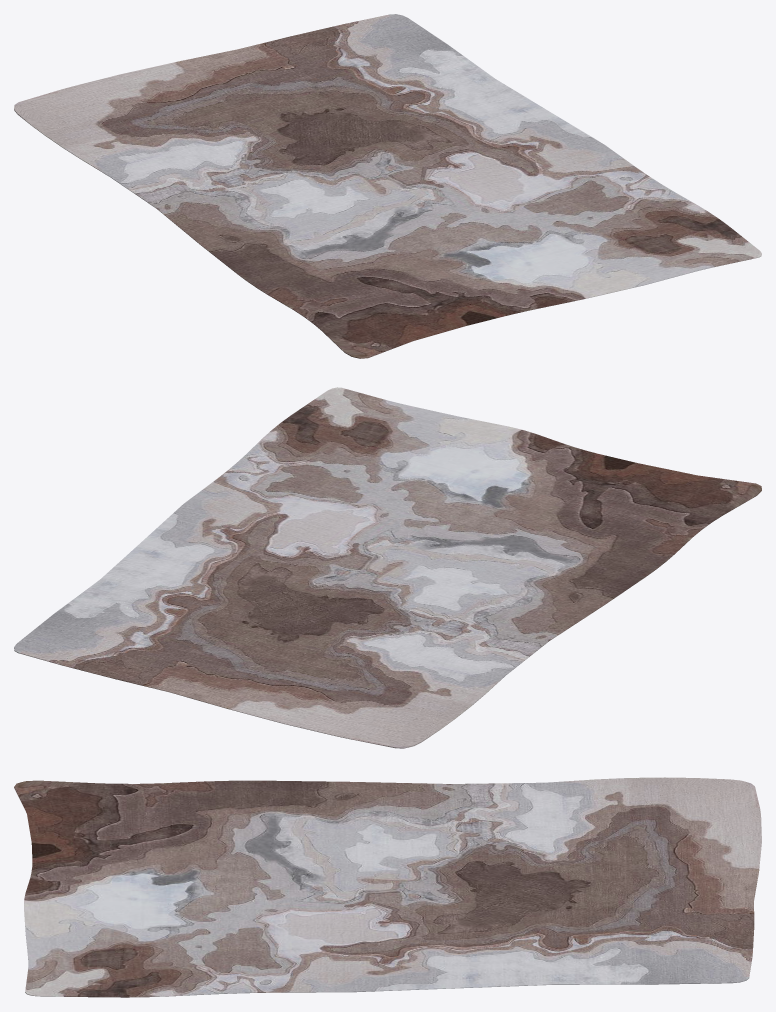
Rendered from Carpet.glb.
The picture shows the model from 3 angles, top to bottom: view 1: azimuth 30°, elevation 25°; view 2: azimuth 150°, elevation 25°; view 3: azimuth 270°, elevation 25°; orthographic projection. The views are drawn at different scales.
Parts seen in each view (by area): view 1: Retopo_平面.002; view 2: Retopo_平面.002; view 3: Retopo_平面.002.
Boxes of the visible parts, x1=… form: Retopo_平面.002: x1=14, y1=14, x2=761, y2=358; Retopo_平面.002: x1=14, y1=387, x2=761, y2=748; Retopo_平面.002: x1=14, y1=777, x2=761, y2=997.
Size of what is drawn, in the model's own units: 10.63 by 0.101 by 15.4.
Materials: 1 (1 with a texture image).
